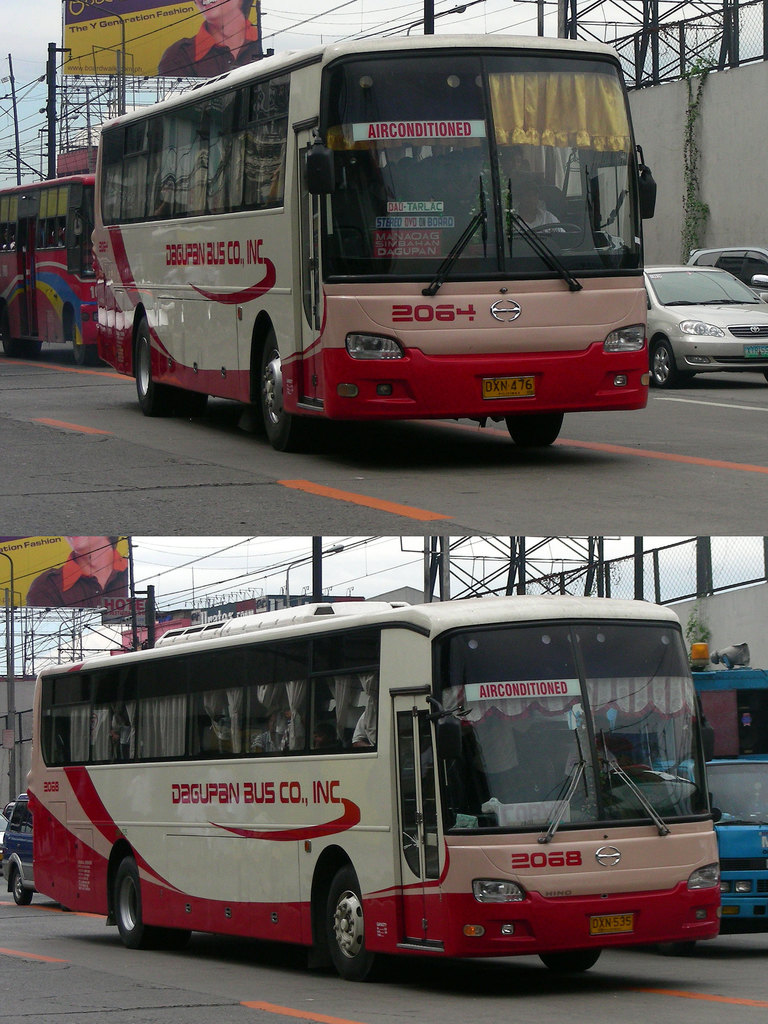Bus: (23, 590, 729, 986), (84, 30, 666, 441), (682, 640, 767, 931), (0, 168, 96, 366)
